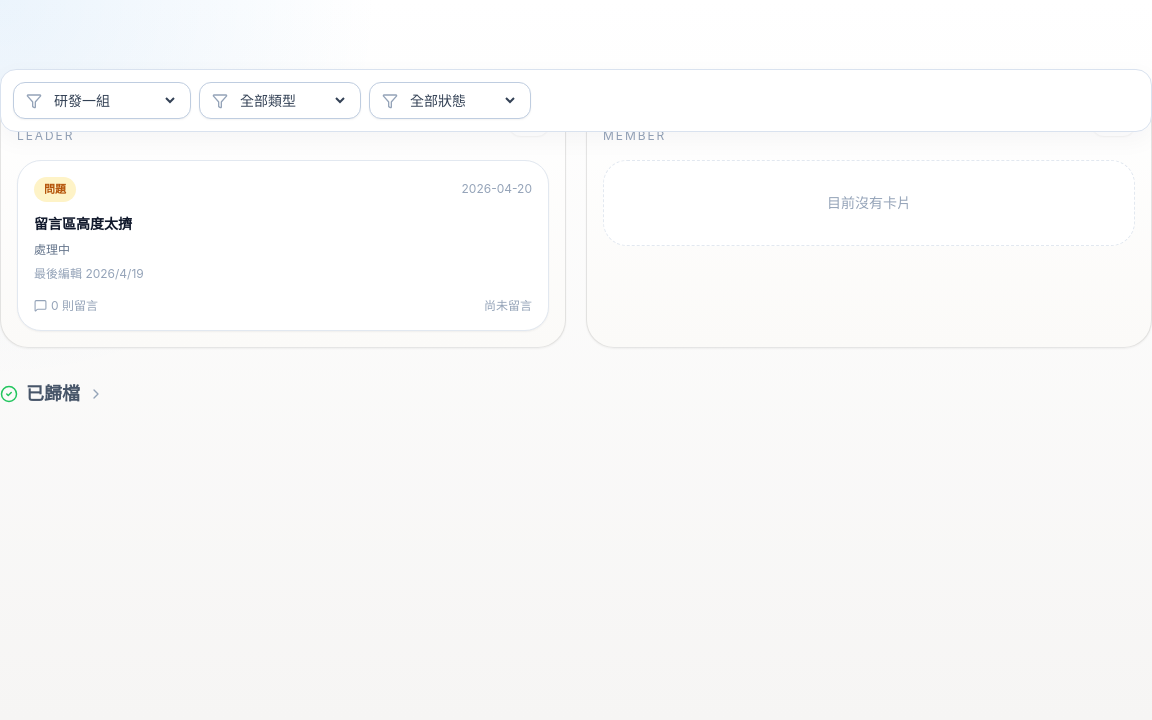
it: TeamBoard › opens the item content dialog on the same page when clicking a card
This screenshot has width=1152, height=720.
Click the button "問題 2026-04-20 留言區高度太擠 處理中 最後編輯 2026/4/19 0 則留言 尚未留言": (55, 189) [17,160,549,330]
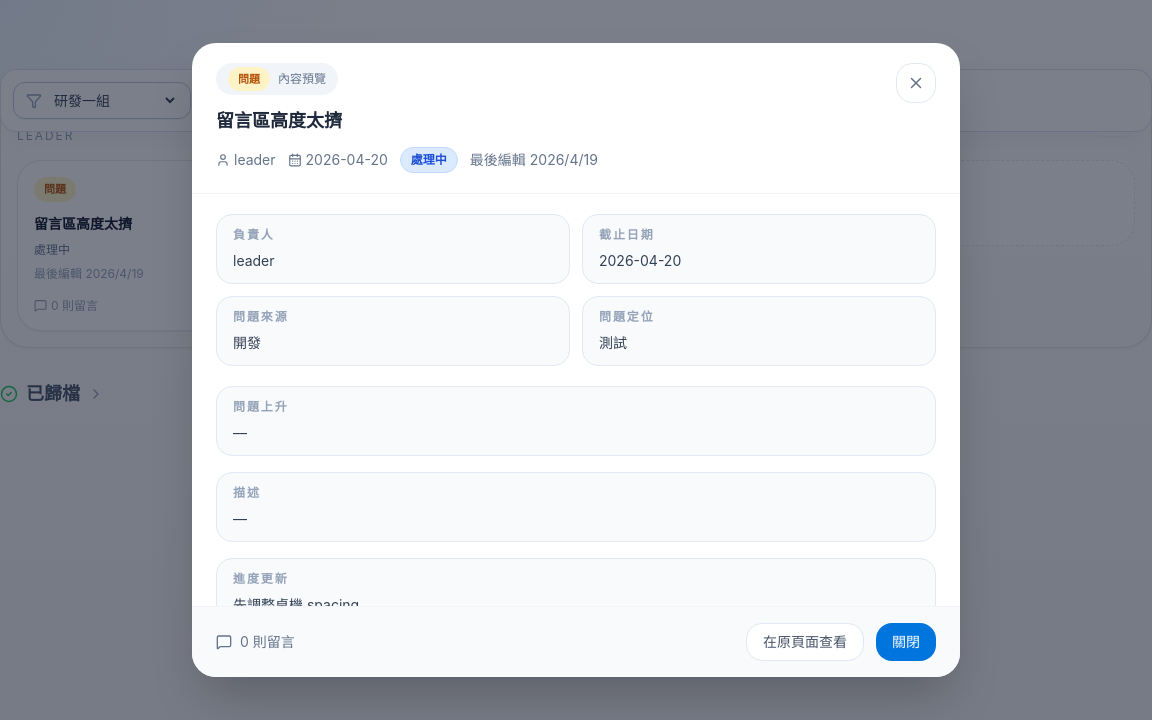
Expected: the dialog named "問題內容視窗" is shown
Expected: the text "最後編輯 2026/4/19" is shown, [470,150,598,170]
Expected: the text "進度更新" is shown, [233,571,289,586]
